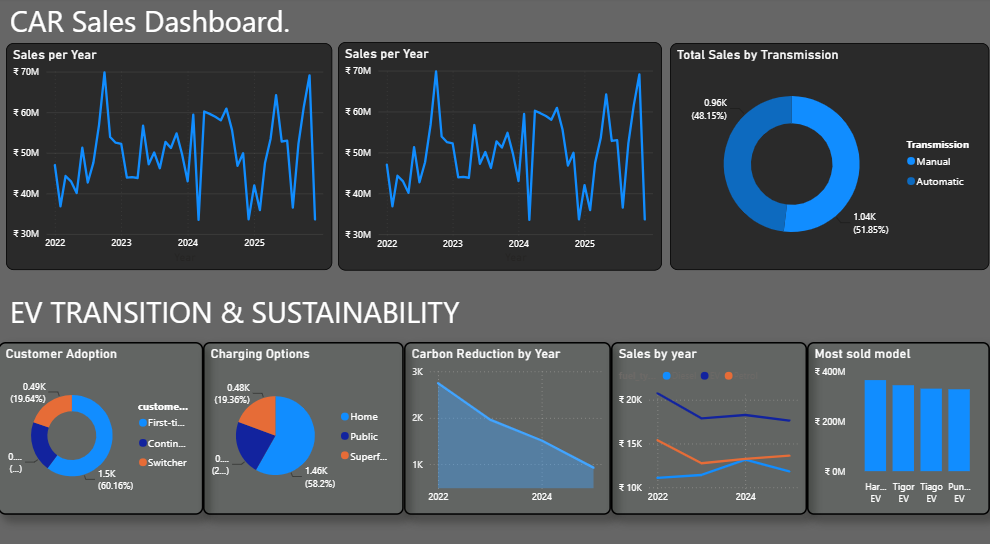

This screenshot's page, from the dashboard's own definition file:
{"tool":"powerbi","page":{"name":"Page 3","canvas":[1280,720],"ordinal":2},"visuals":[{"type":"lineChart","title":"Sales per Year","fields":{"Y":["Sum(car_data_cleaned.price)"],"Category":["car_data_cleaned.date.Variation.Date Hierarchy.Year","car_data_cleaned.date.Variation.Date Hierarchy.Month"]},"box":[439,57.8,417.8,294.9],"z":0},{"type":"lineChart","title":"Sales per Year","fields":{"Y":["Sum(car_data_cleaned.price)"],"Category":["car_data_cleaned.date.Variation.Date Hierarchy.Year","car_data_cleaned.date.Variation.Date Hierarchy.Month"]},"box":[10.1,59.3,420.7,293.5],"z":1},{"type":"donutChart","fields":{"Category":["car_data_cleaned.transmission"],"Y":["CountNonNull(car_data_cleaned.transmission)"]},"box":[867.5,59.3,412,293.5],"z":2},{"type":"donutChart","title":"Customer Adoption","fields":{"Category":["sustainability_data.customer_adoption"],"Y":["CountNonNull(sustainability_data.customer_adoption)"]},"box":[0,445.3,264.6,222.7],"z":3},{"type":"areaChart","title":"Carbon Reduction by Year","fields":{"Y":["Sum(sustainability_data.carbon_reduction_tonnes)"],"Category":["sustainability_data.year"]},"box":[523.4,445.3,267.5,222.7],"z":5},{"type":"pieChart","title":"Charging Options","fields":{"Y":["CountNonNull(sustainability_data.charging_type)"],"Category":["sustainability_data.charging_type"]},"box":[264.6,445.3,258.8,222.7],"z":6},{"type":"lineChart","title":"Sales by year","fields":{"Category":["transition_data.year"],"Y":["Sum(transition_data.total_sales)"],"Series":["transition_data.fuel_type"]},"box":[790.8,445.3,253,222.7],"z":7},{"type":"columnChart","title":"Most sold model","fields":{"Category":["car_data_cleaned.model"],"Y":["Sum(car_data_cleaned.price)"]},"box":[1043.9,445.3,235.7,222.7],"z":8},{"type":"textbox","box":[10.1,0,588.4,59.3],"z":9},{"type":"textbox","box":[10.1,375.9,717.1,85.3],"z":10}]}

Visuals, with their boxes in screenshot pixels (x1, y1, x2, y2), scaled from the page's 1280x720 canvas onto the 990x544 screenshot:
"Sales per Year" lineChart: 340, 44, 663, 266
"Sales per Year" lineChart: 8, 45, 333, 267
donutChart - car_data_cleaned.transmission x CountNonNull(car_data_cleaned.transmission): 671, 45, 989, 267
"Customer Adoption" donutChart: 0, 336, 205, 505
"Carbon Reduction by Year" areaChart: 405, 336, 612, 505
"Charging Options" pieChart: 205, 336, 405, 505
"Sales by year" lineChart: 612, 336, 807, 505
"Most sold model" columnChart: 807, 336, 989, 505
textbox: 8, 0, 463, 45
textbox: 8, 284, 562, 348
